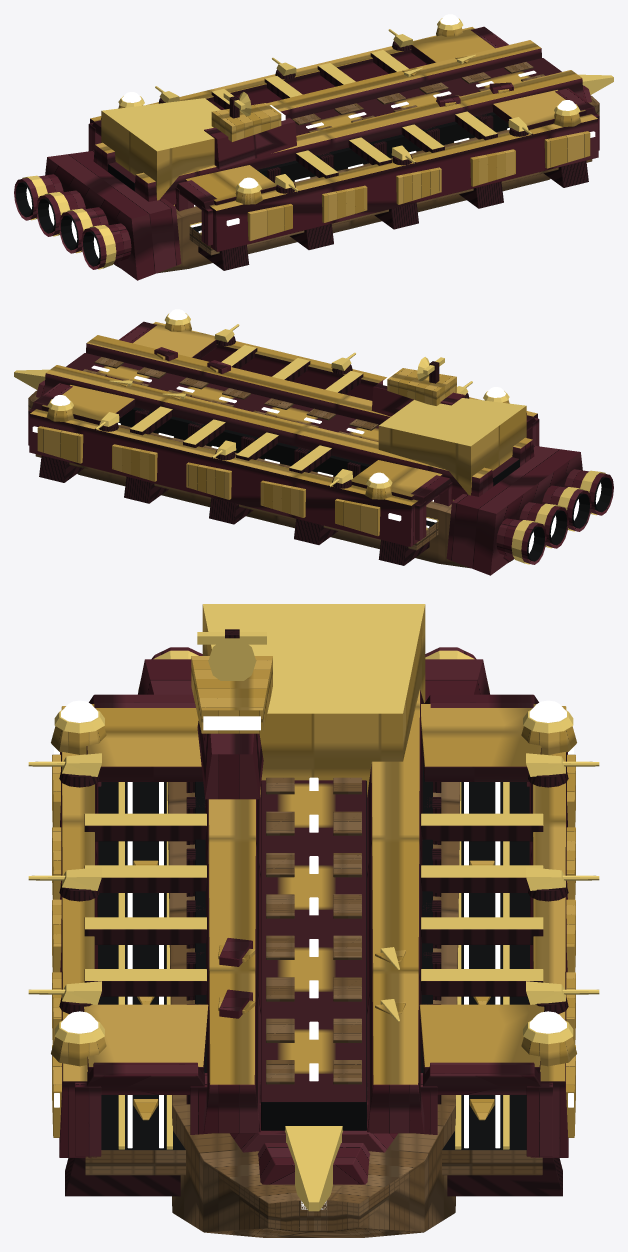
The model's file is carrier.glb.
The picture shows the model from 3 angles, top to bottom: view 1: azimuth 30°, elevation 25°; view 2: azimuth 150°, elevation 25°; view 3: azimuth 270°, elevation 25°; orthographic projection. The views are drawn at different scales.
Parts seen in each view (by area): view 1: hull_body, engine_block, sensor_island, shield_domes, weapon_turrets; view 2: hull_body, engine_block, sensor_island, shield_domes, weapon_turrets; view 3: hull_body, sensor_island, shield_domes, weapon_turrets, engine_block.
Part boxes in pixels (x1=…): hull_body: x1=88, y1=26, x2=613, y2=273; engine_block: x1=14, y1=150, x2=181, y2=280; sensor_island: x1=204, y1=92, x2=296, y2=169; shield_domes: x1=118, y1=14, x2=581, y2=204; weapon_turrets: x1=155, y1=29, x2=533, y2=193; hull_body: x1=14, y1=321, x2=539, y2=568; engine_block: x1=446, y1=445, x2=613, y2=575; sensor_island: x1=371, y1=357, x2=464, y2=416; shield_domes: x1=46, y1=309, x2=509, y2=499; weapon_turrets: x1=94, y1=324, x2=472, y2=488; hull_body: x1=52, y1=604, x2=575, y2=1237; sensor_island: x1=191, y1=629, x2=272, y2=799; shield_domes: x1=51, y1=700, x2=576, y2=1066; weapon_turrets: x1=28, y1=753, x2=599, y2=1013; engine_block: x1=138, y1=647, x2=489, y2=701.
Bounding box in the file's own units: 55 × 14.14 × 24.49.
1 material, 1 textured.
